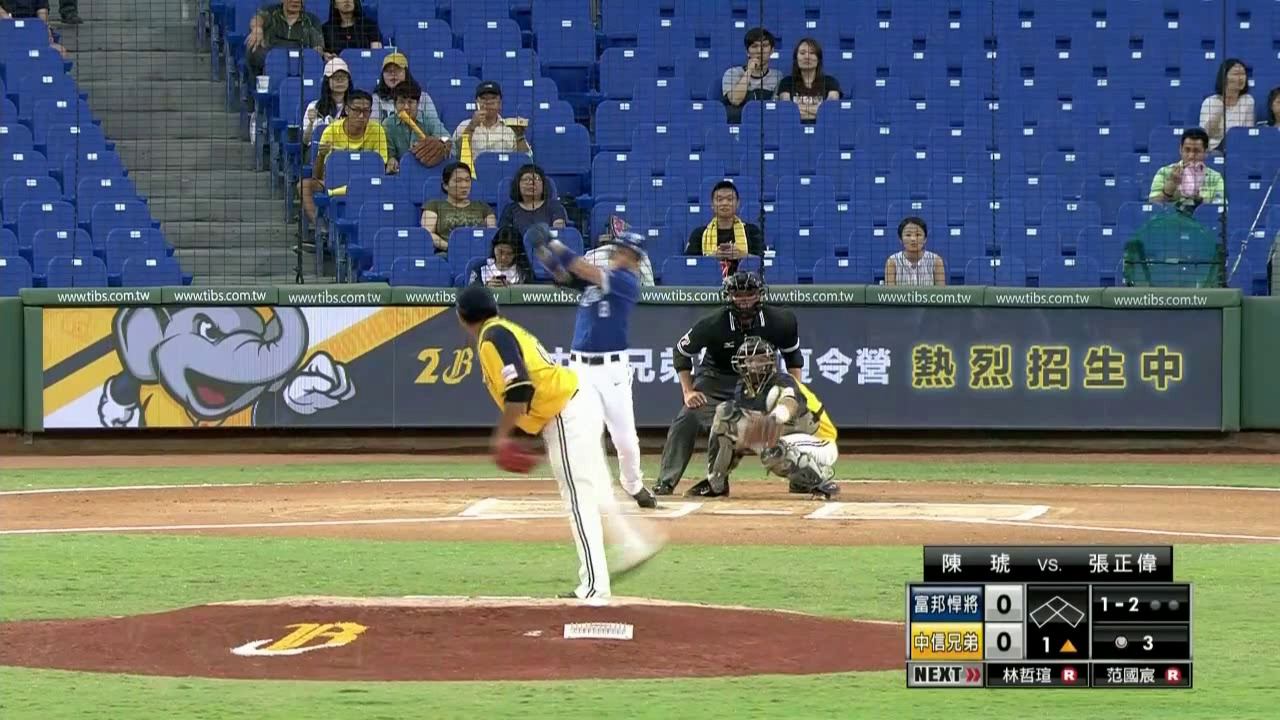base: (1027, 594, 1087, 635)
bat: (531, 231, 551, 243)
out: (1147, 593, 1186, 617)
score1: (986, 593, 1022, 620)
score2: (993, 628, 1020, 660)
session: (1022, 634, 1091, 657)
strikeball: (1094, 592, 1146, 617)
total: (1108, 631, 1163, 656)
